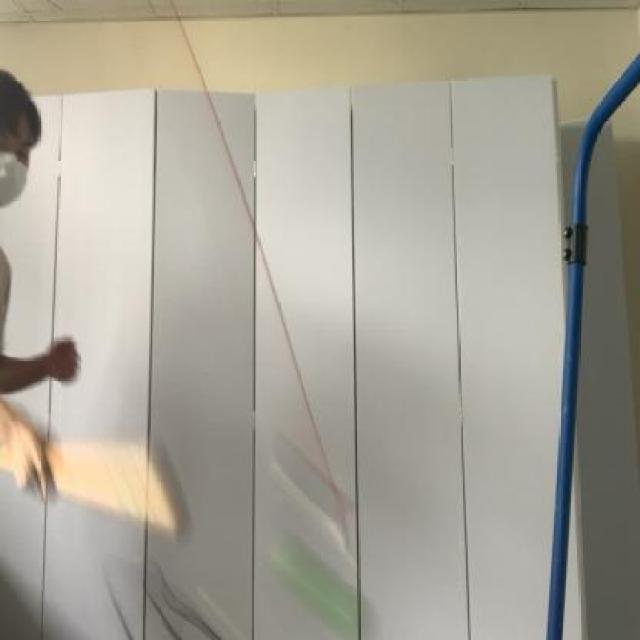baseball: (266, 517, 388, 640)
